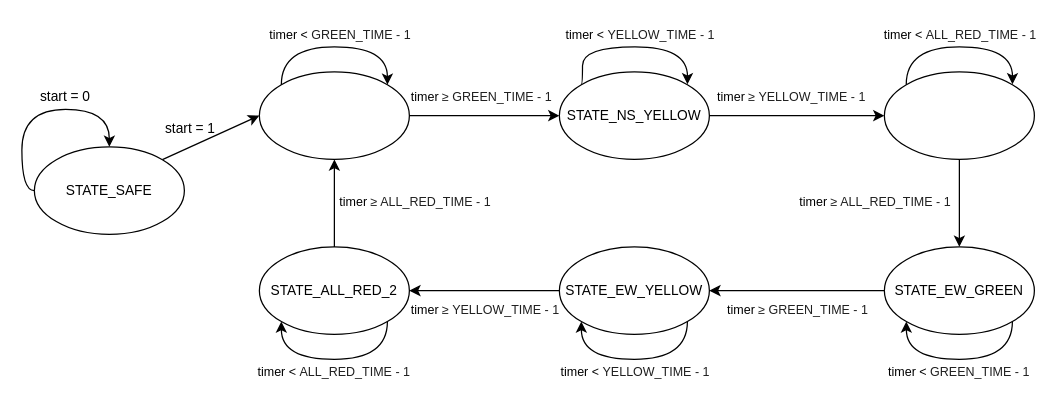
Some shapes in this 1064 by 405 pixel diagram are drawn without their labels. The centre of each missing label's shape, as x and y in pixels:
"STATE_ALL_RED_1" goes at pixel 958 115.
"STATE_NS_GREEN" goes at pixel 333 115.
